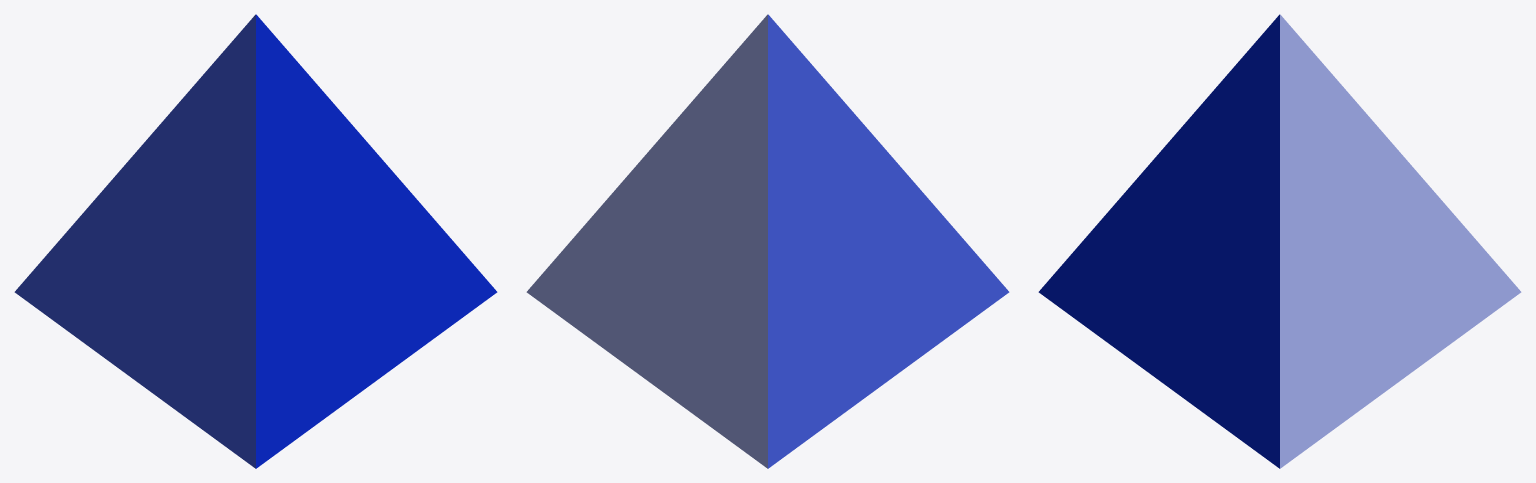
Rendered from multi-mat_tetraeder.dae.
The picture shows the model from 3 angles, left to right: view 1: azimuth 30°, elevation 25°; view 2: azimuth 150°, elevation 25°; view 3: azimuth 270°, elevation 25°; orthographic projection.
Parts seen in each view (by area): view 1: Cone001; view 2: Cone001; view 3: Cone001.
Part boxes in pixels (<box>): Cone001: <box>14,14,497,468</box>; Cone001: <box>526,14,1009,468</box>; Cone001: <box>1038,14,1521,468</box>.
Bounding box in the file's own units: 0.45 × 0.5196 × 0.4.
